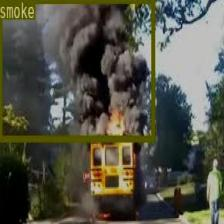smoke: (0, 0, 155, 140)
